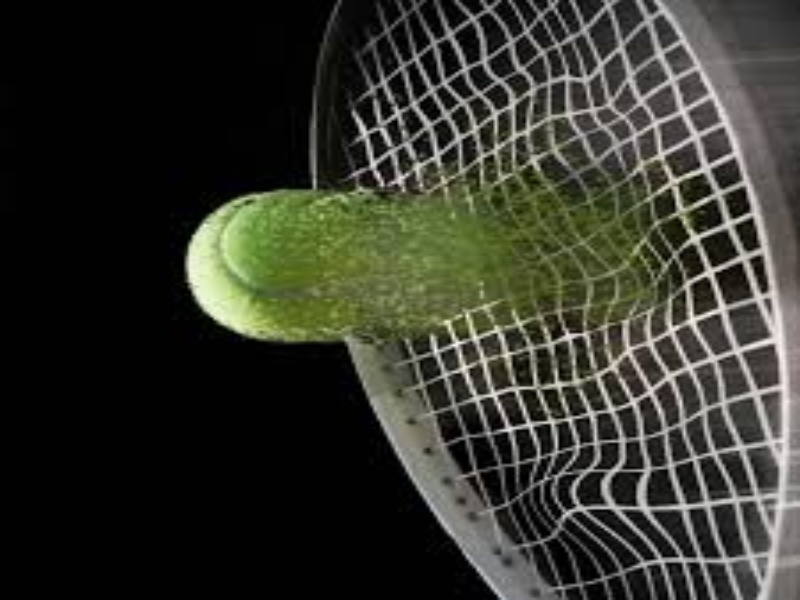tennis ball: (174, 179, 441, 353)
